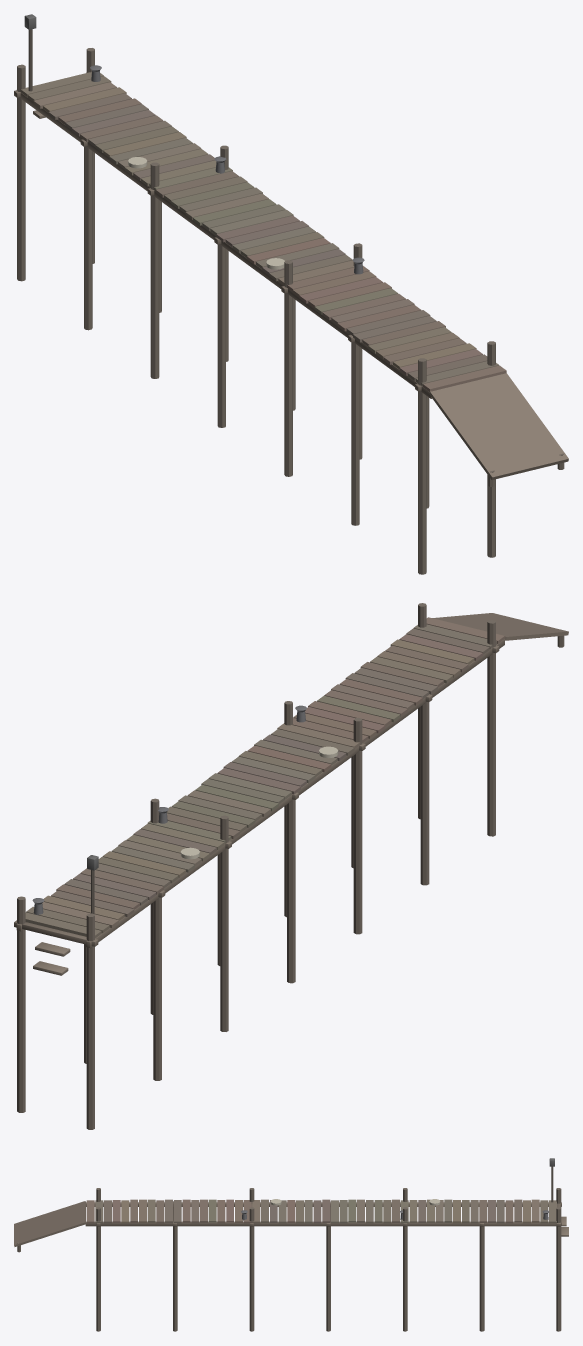
File: jetty.gltf
The picture shows the model from 3 angles, top to bottom: view 1: azimuth 30°, elevation 25°; view 2: azimuth 150°, elevation 25°; view 3: azimuth 270°, elevation 25°; orthographic projection. The views are drawn at different scales.
Parts seen in each view (by area): view 1: Body; view 2: Body; view 3: Body.
Part boxes in pixels (bbox=[...]): Body: bbox=[14, 14, 568, 574]; Body: bbox=[14, 603, 568, 1129]; Body: bbox=[14, 1158, 568, 1331].
Size of the model in its own units: 3.4 by 10.62 by 34.97.
